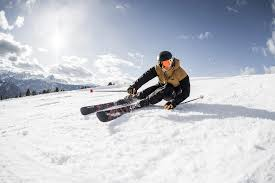skis: (79, 95, 156, 123)
